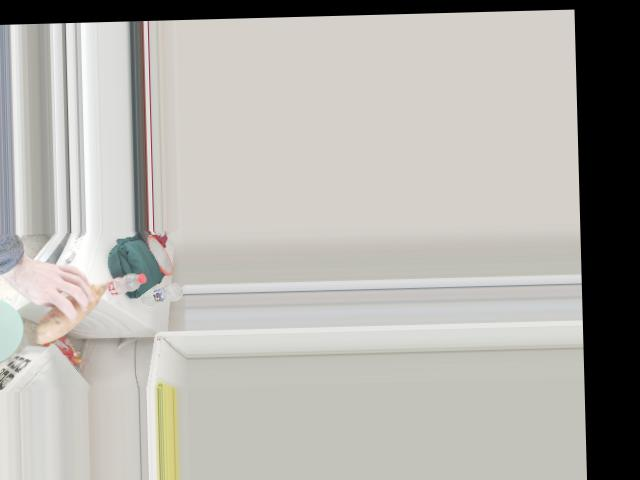sweet_potato: (43, 267, 105, 341)
